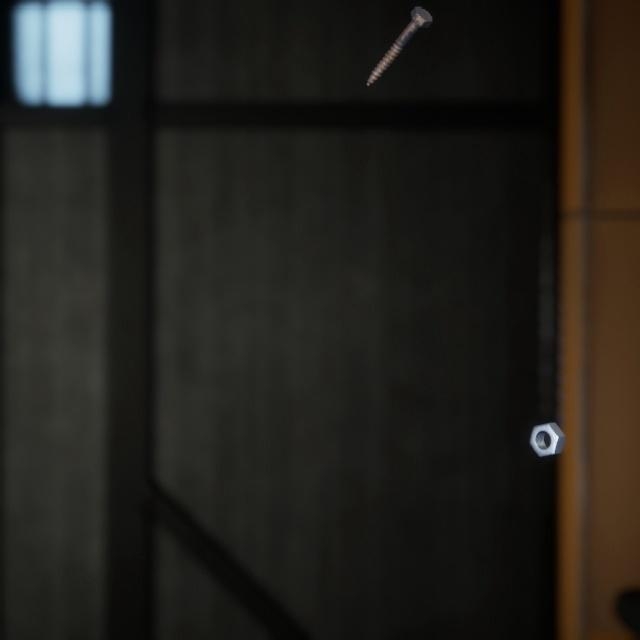bolt: (362, 0, 437, 81)
nut: (524, 397, 570, 441)
